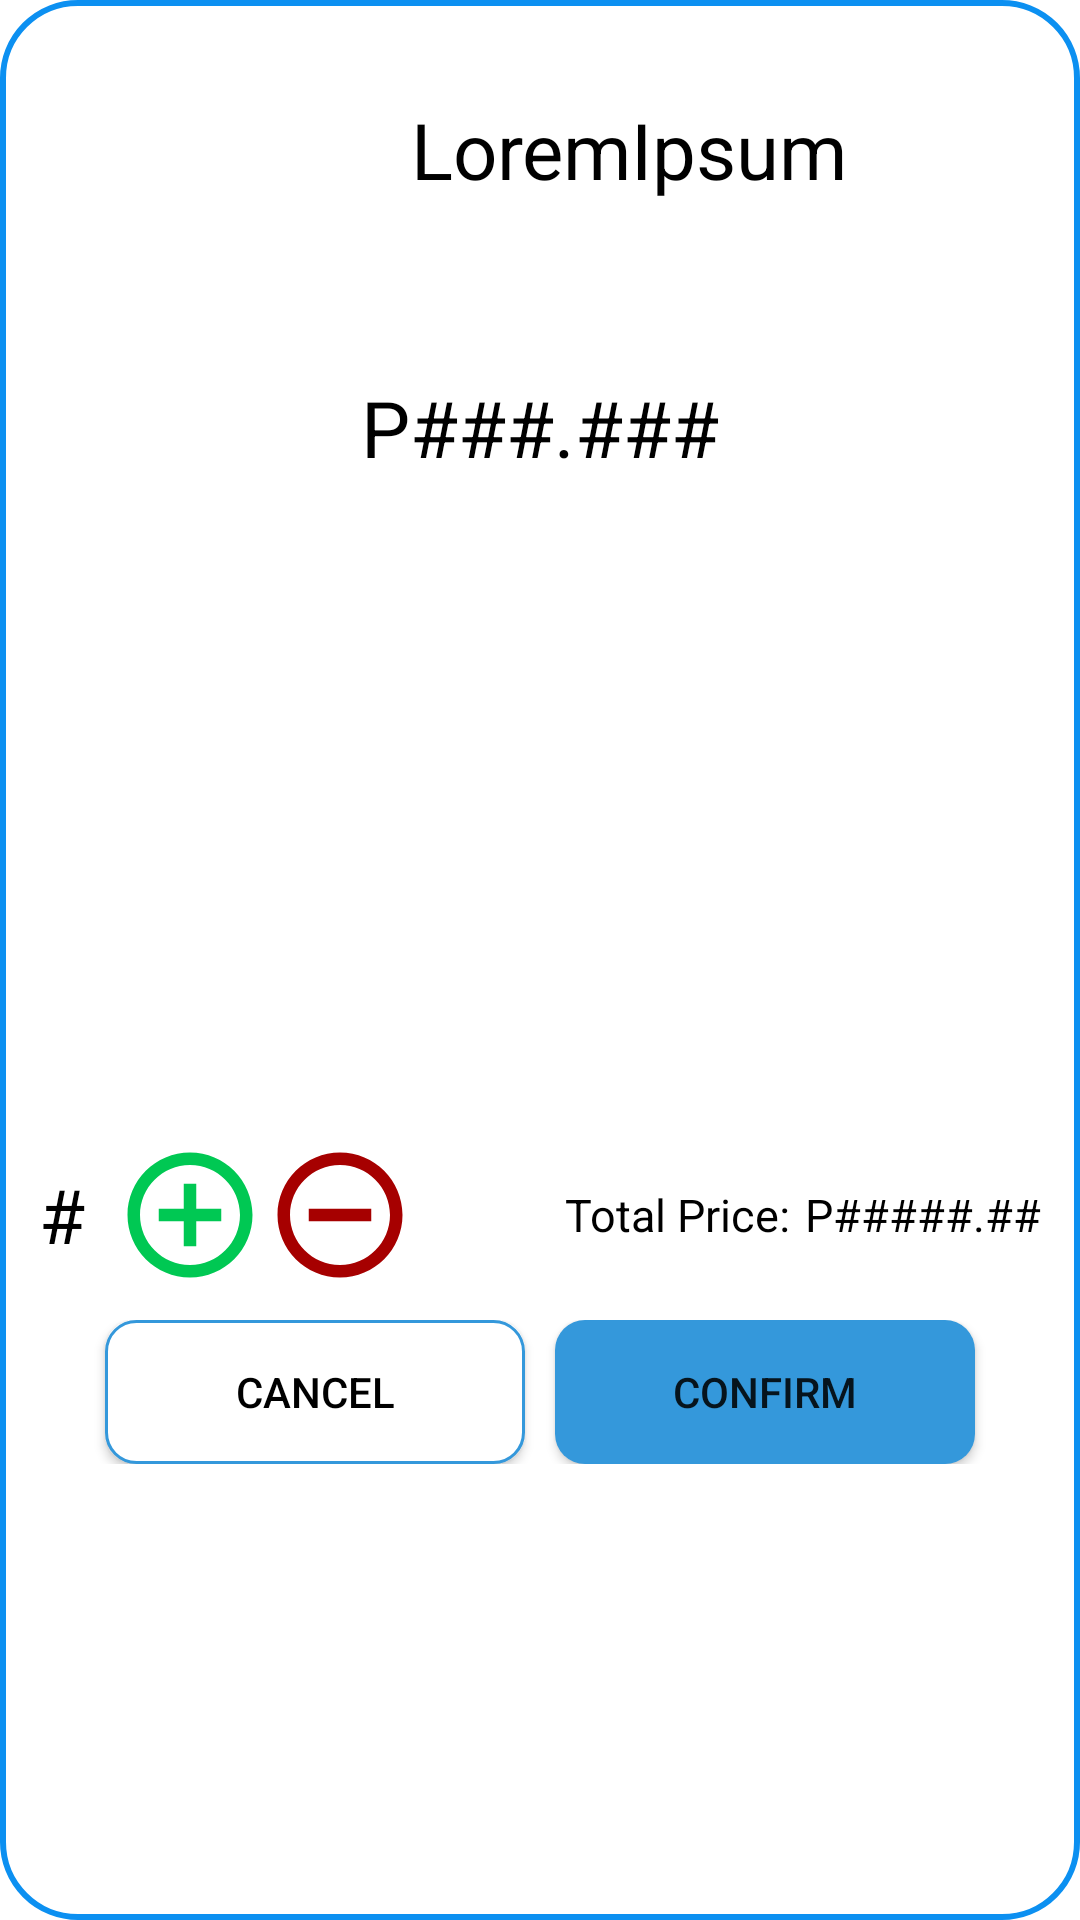

Icons on this 1080w x 1920h Android screen, each with the point to tap as point (x, y):
addbtn: point (190, 1215)
lessbtn: point (340, 1215)
